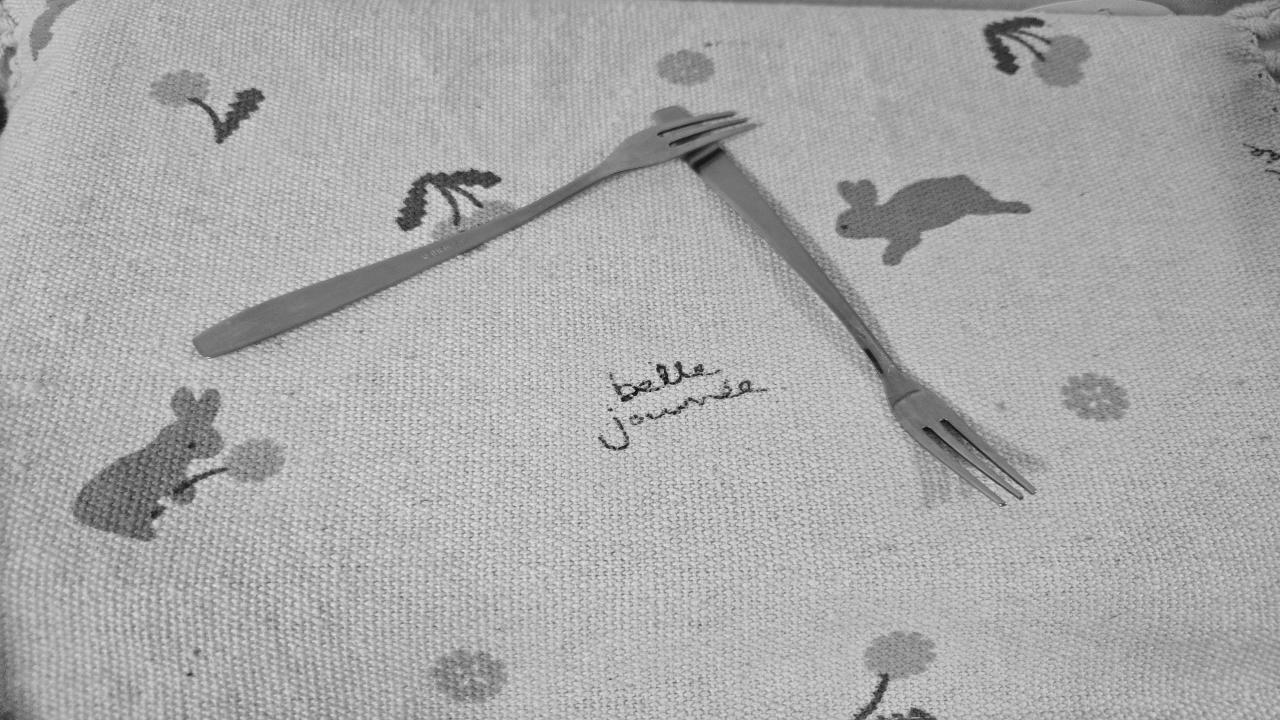fork: (191, 111, 758, 356), (698, 114, 1038, 509)
